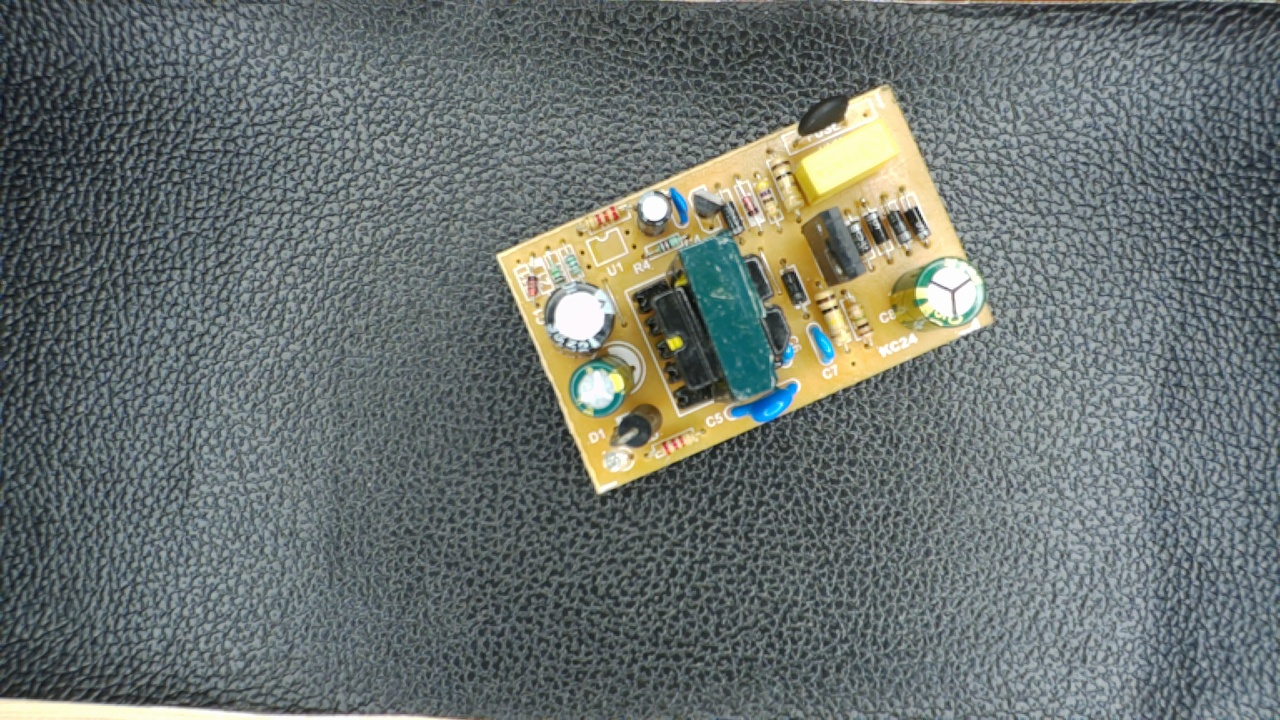fuse: (782, 90, 857, 152)
hv_capacitor: (891, 252, 993, 332)
mov: (723, 378, 804, 429)
